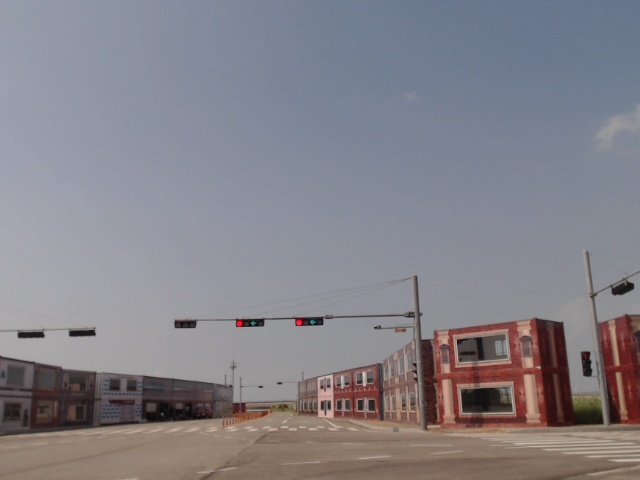left_green_4: (236, 320, 264, 327), (295, 318, 323, 325)
